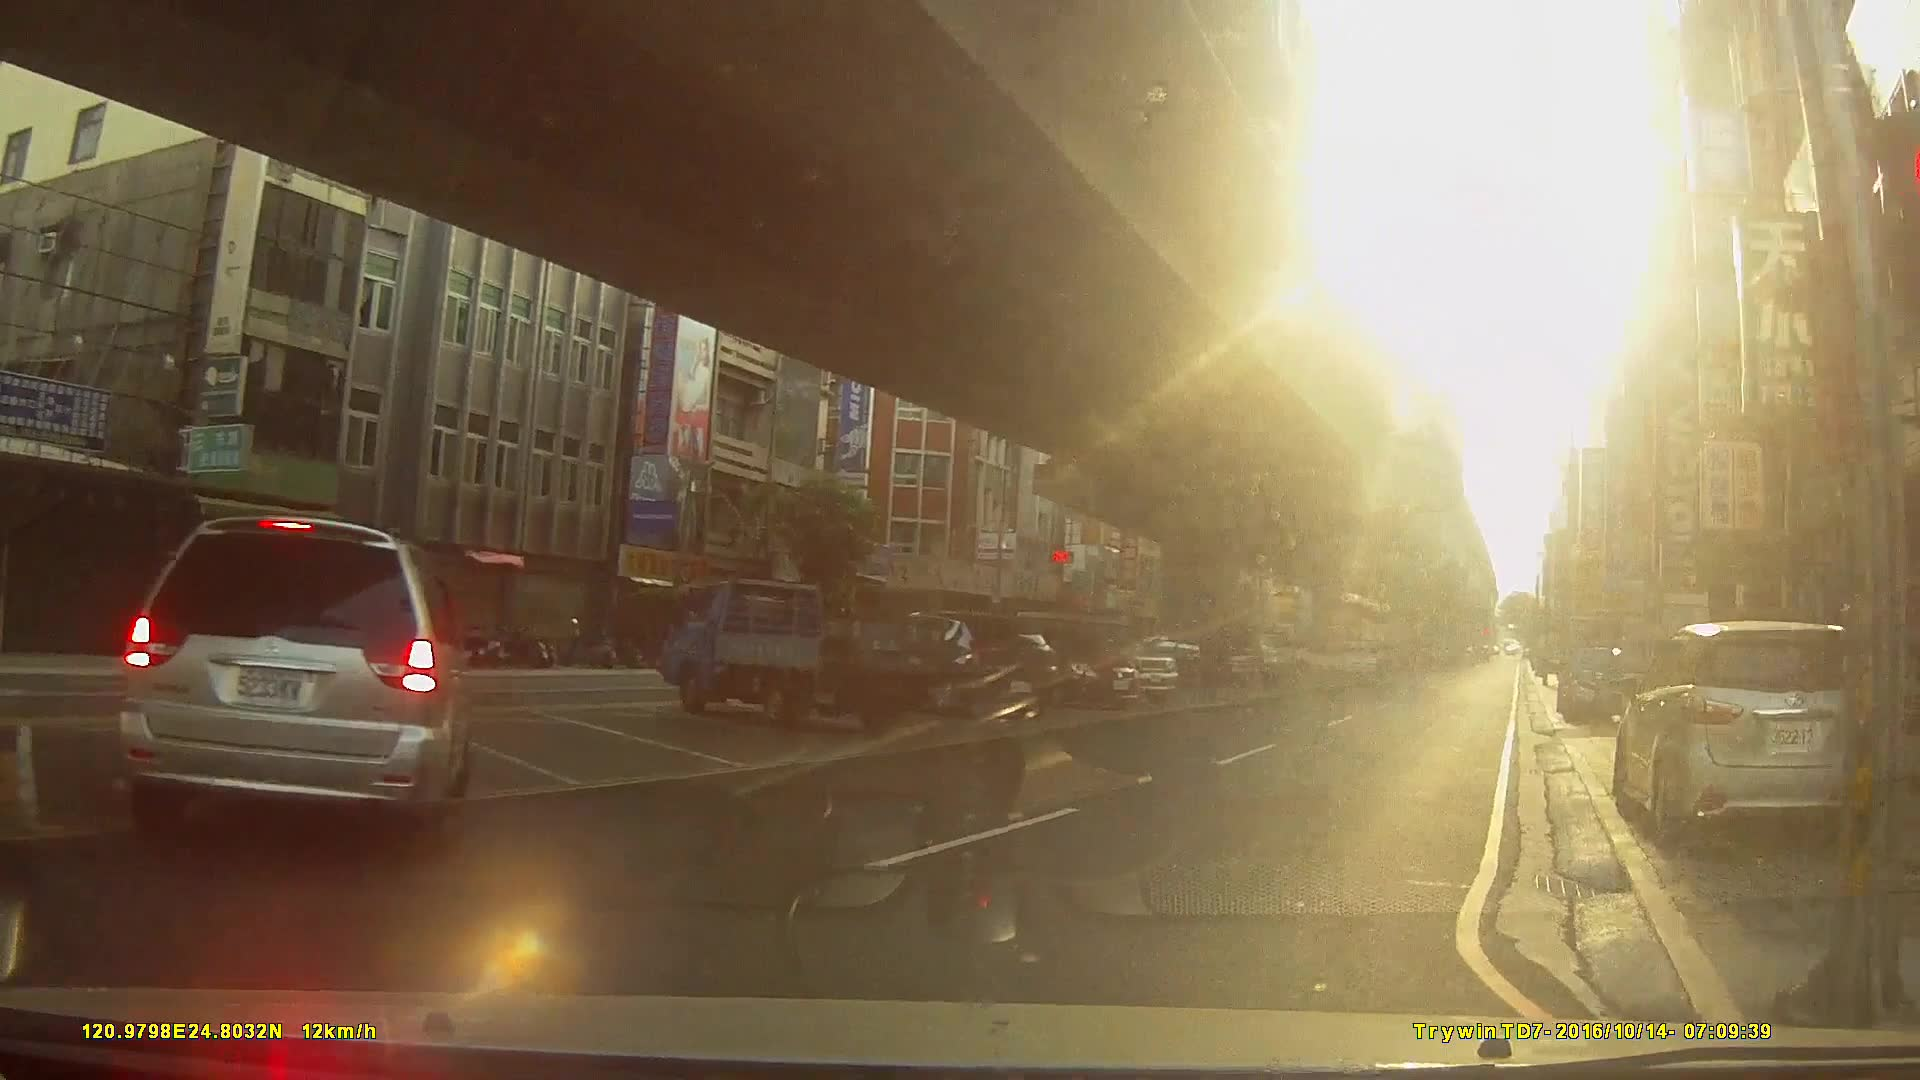vehicle: (117, 513, 473, 849), (1610, 615, 1896, 851), (655, 575, 942, 731), (872, 608, 1062, 719), (976, 617, 1145, 705), (1102, 632, 1232, 687)
